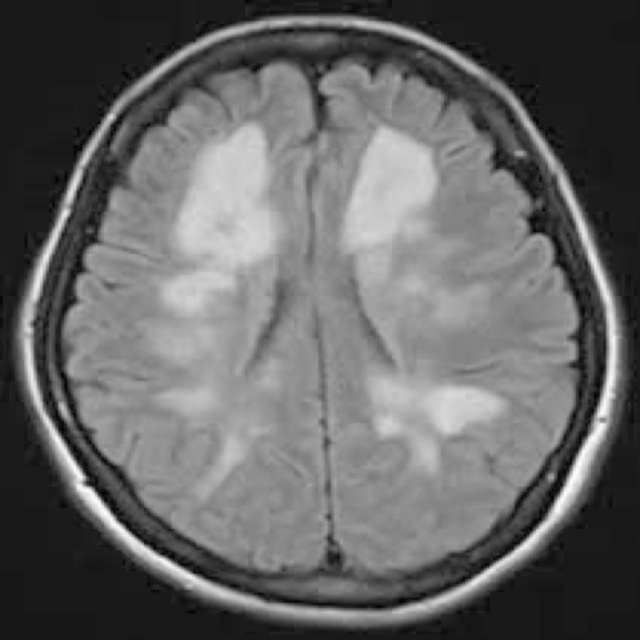glioma tumor: (156, 72, 508, 556)
